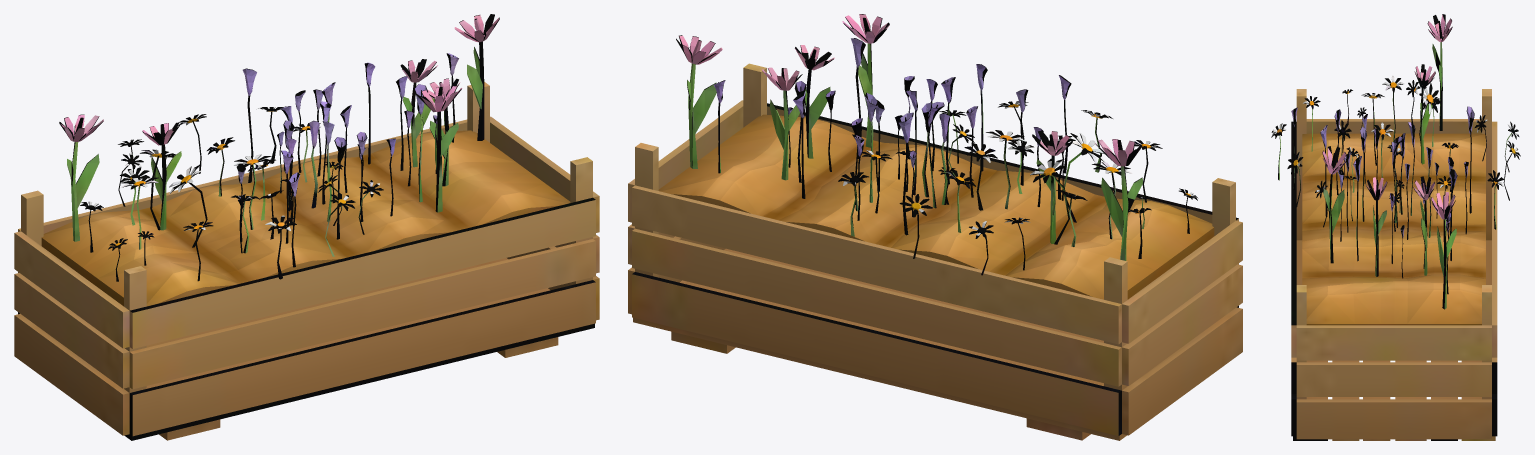
The model's file is flowerbed_crate.glb.
3 renders of one model, left to right at view 1: azimuth 30°, elevation 25°; view 2: azimuth 150°, elevation 25°; view 3: azimuth 270°, elevation 25°, orthographic. The views are drawn at different scales.
Parts seen in each view (by area): view 1: flowerbed_crate; view 2: flowerbed_crate; view 3: flowerbed_crate.
Part boxes in pixels (left/top/right/bottom): flowerbed_crate: left=14, top=14, right=599, bottom=440; flowerbed_crate: left=628, top=14, right=1242, bottom=440; flowerbed_crate: left=1271, top=14, right=1520, bottom=440.
Size of the model in its own units: 1.21 by 0.6423 by 0.61.
Materials: 1 (1 with a texture image).
